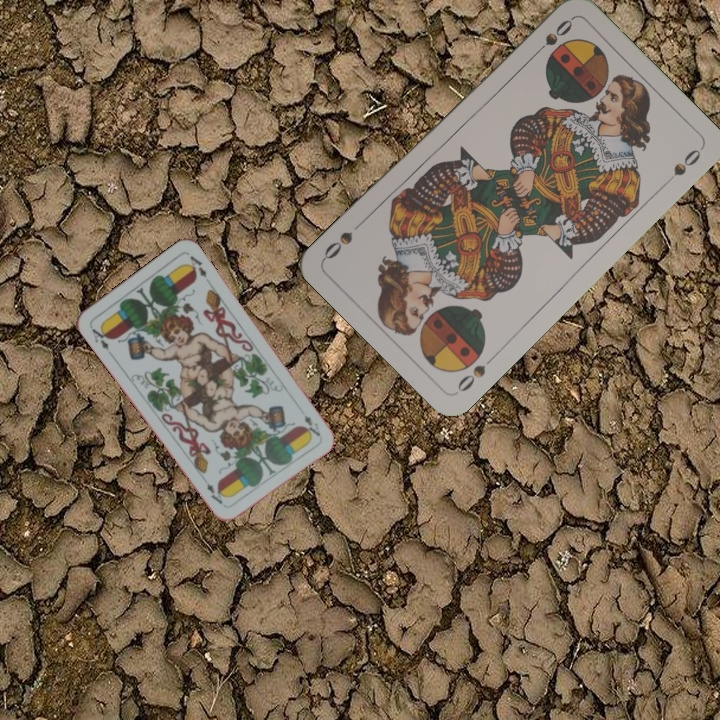EA: (88, 323, 113, 353), (300, 411, 323, 439)
SO: (528, 15, 575, 61), (453, 350, 499, 395)
